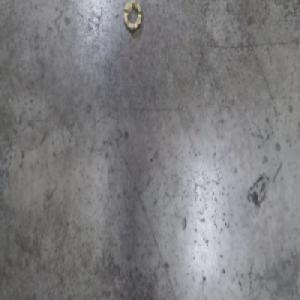Nut: (122, 0, 142, 35)
